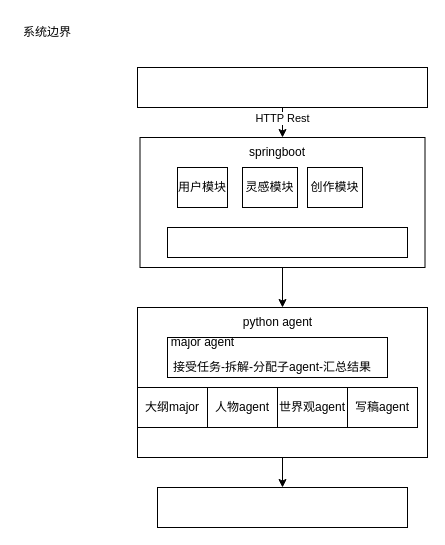
Some shapes in this 445 by 545 pixel diagram are drawn without their labels. The box of each missing label's shape, as (x1, y1, x2, y2) in pixels:
Agent调用层,分装python的请求: (166, 226, 408, 258)
LLM适配层: (156, 486, 408, 528)
前端:vue3: (136, 66, 428, 108)
